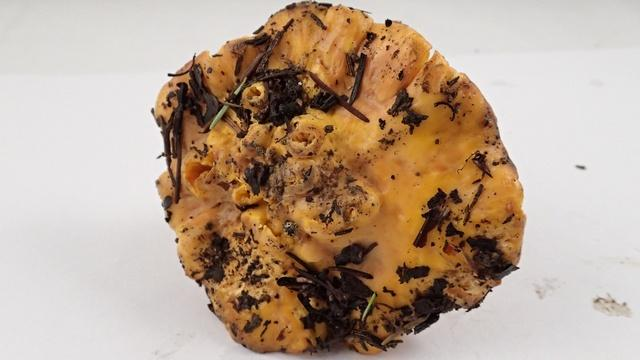Edible Mushroom: (150, 1, 527, 355)
